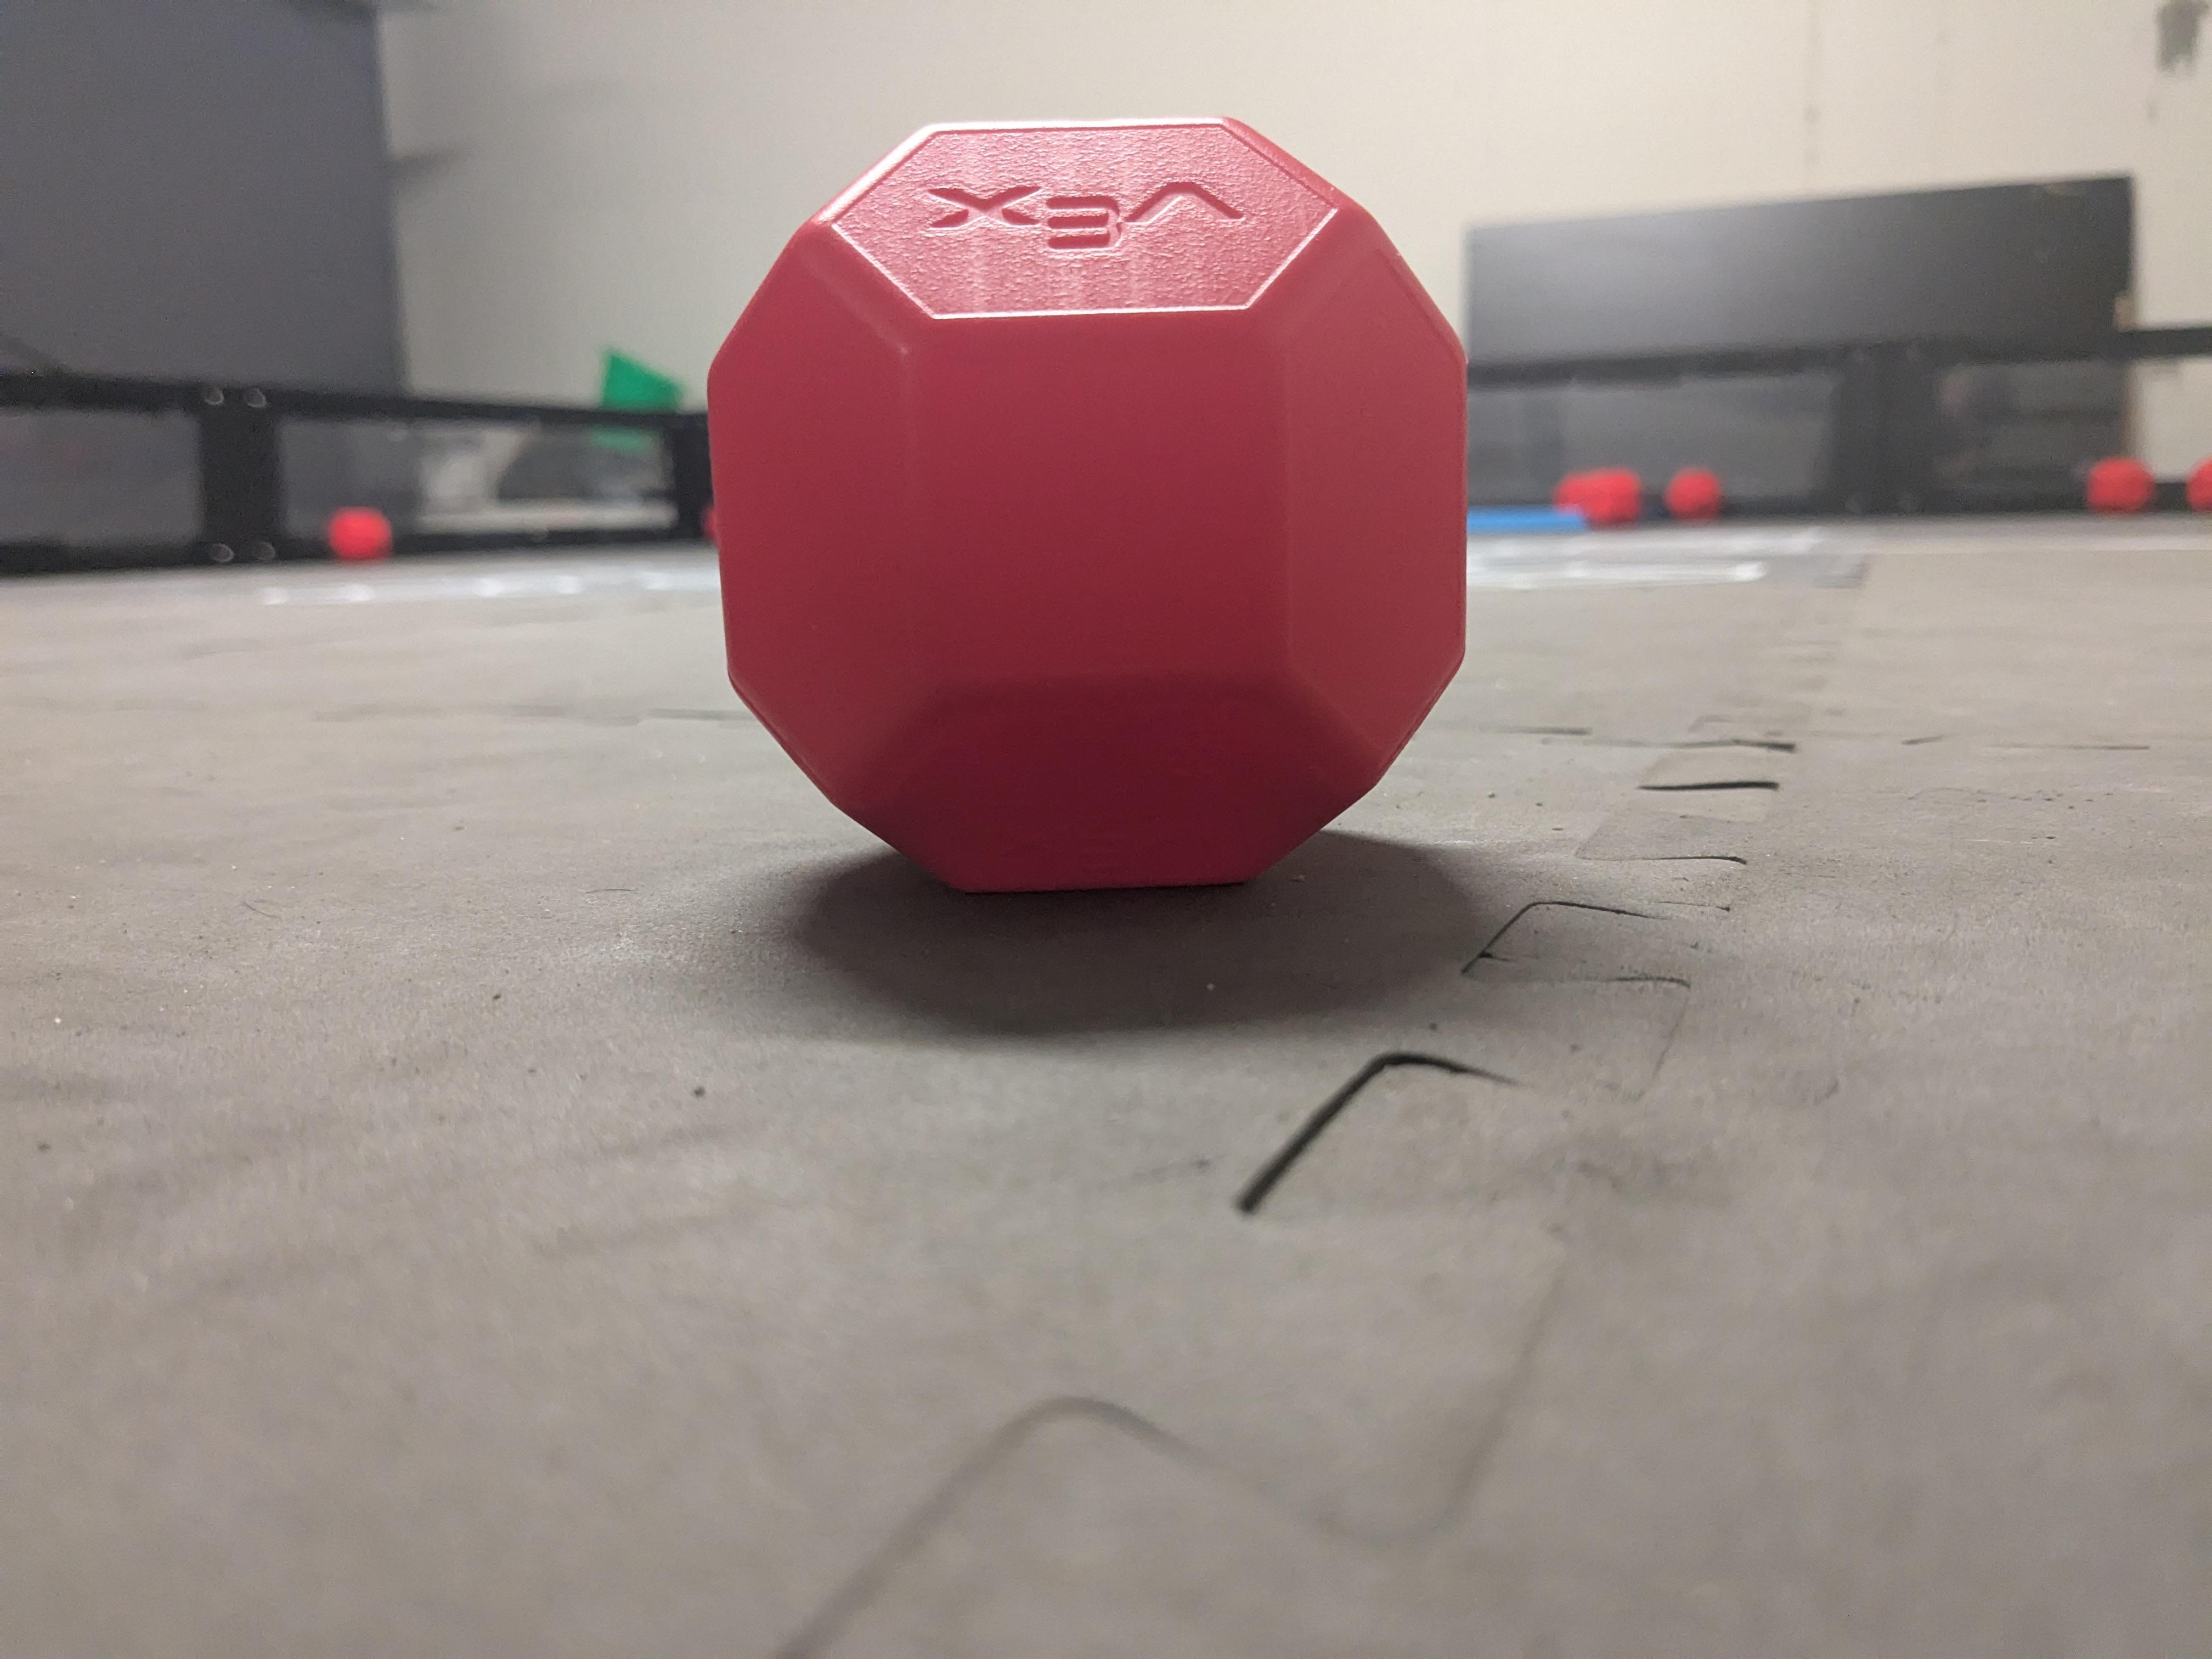Vex-Pieces-RED: (709, 119, 1467, 890)
